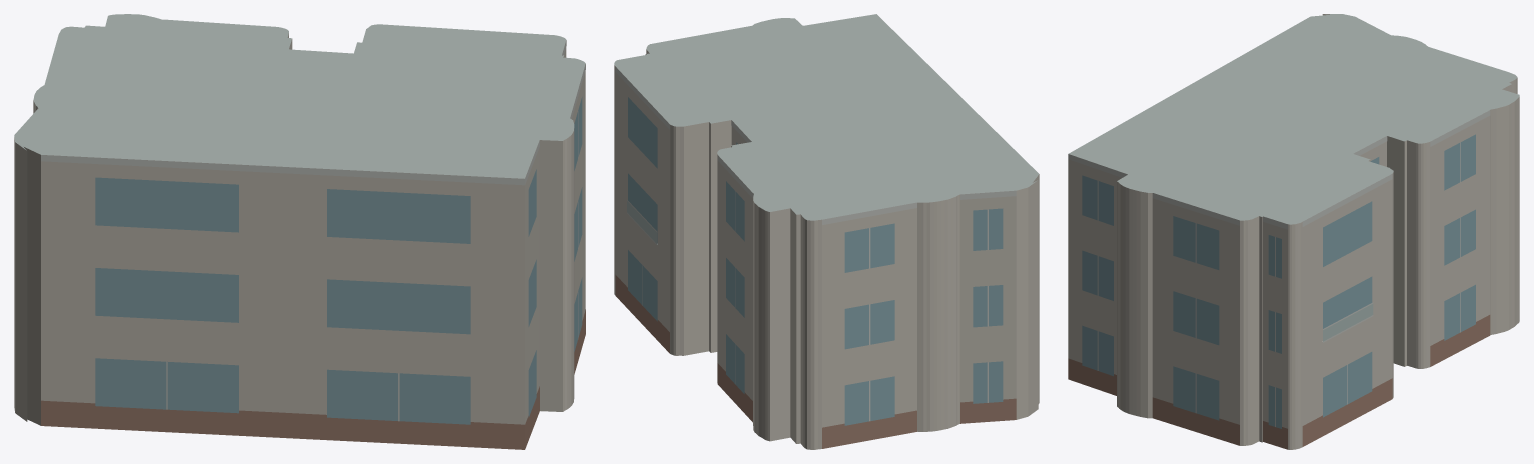
File: survey-upis-33024361.glb
The picture shows the model from 3 angles, left to right: view 1: azimuth 30°, elevation 25°; view 2: azimuth 150°, elevation 25°; view 3: azimuth 270°, elevation 25°; orthographic projection. The views are drawn at different scales.
Parts seen in each view (by area): view 1: survey-upis-33024361.tmp; view 2: survey-upis-33024361.tmp; view 3: survey-upis-33024361.tmp.
Part boxes in pixels (x1=…): survey-upis-33024361.tmp: x1=14, y1=14, x2=585, y2=449; survey-upis-33024361.tmp: x1=614, y1=14, x2=1039, y2=449; survey-upis-33024361.tmp: x1=1068, y1=14, x2=1519, y2=449.
Size of the model in its own units: 20.38 by 10.17 by 18.47.
